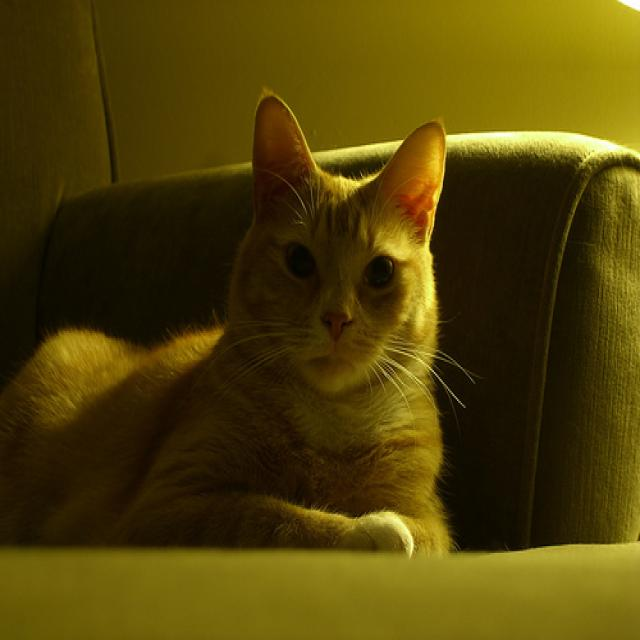left eye: (362, 251, 397, 290)
